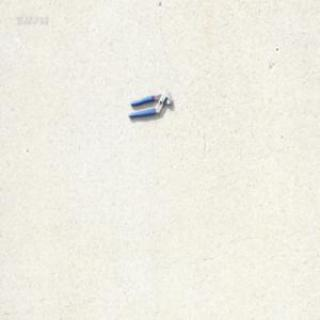Pliertrack_idkeyframe: (126, 88, 172, 118)
